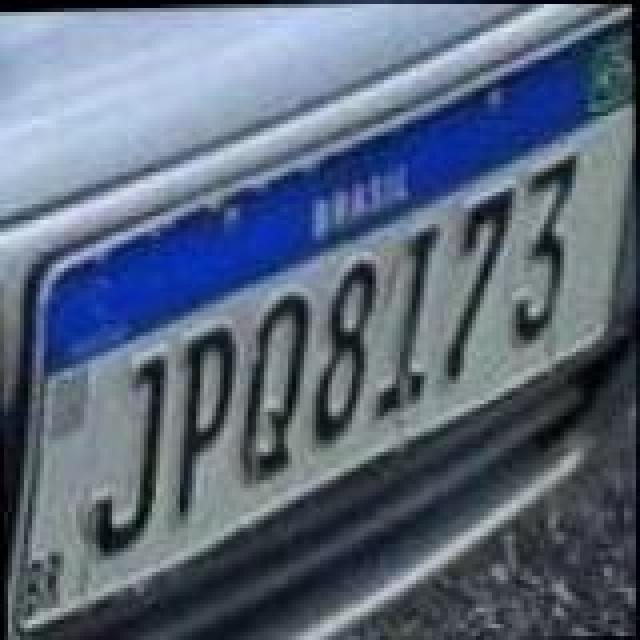3: (510, 150, 586, 346)
7: (434, 182, 518, 378)
8: (306, 258, 382, 450)
I: (368, 220, 444, 416)
J: (86, 350, 174, 558)
P: (172, 322, 248, 522)
Q: (228, 290, 316, 486)
